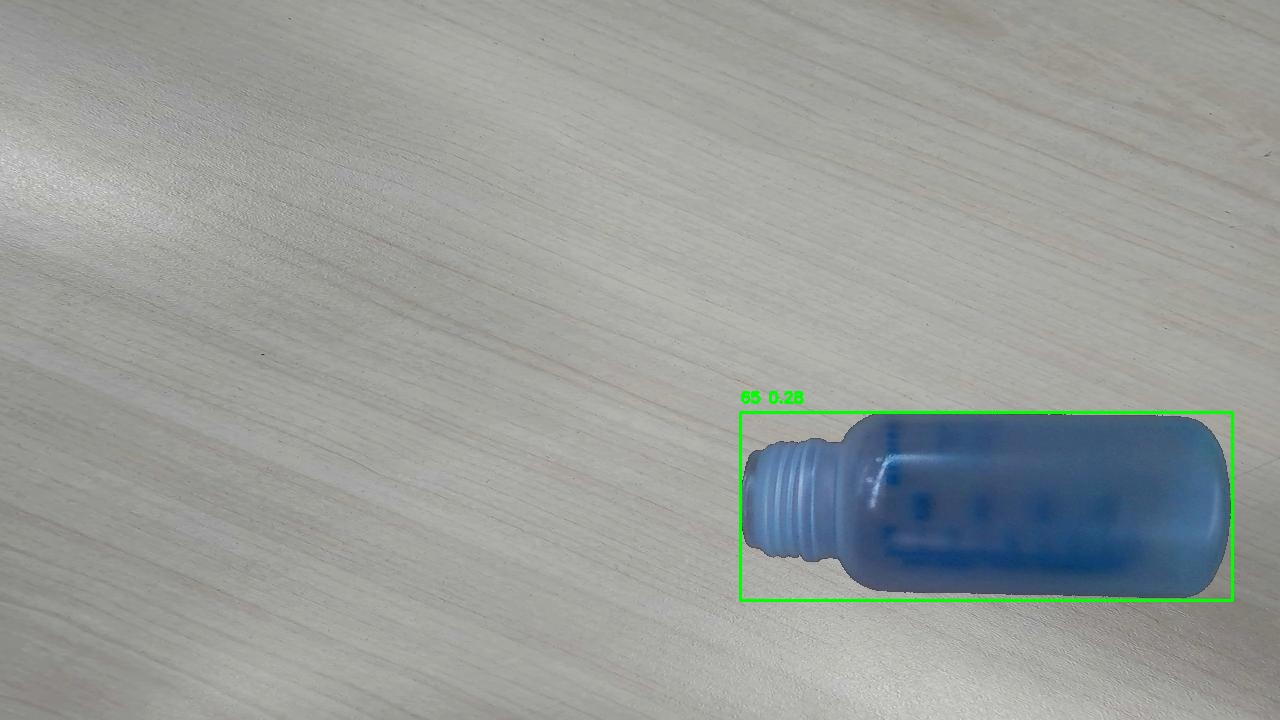cup: (740, 412, 1232, 600)
